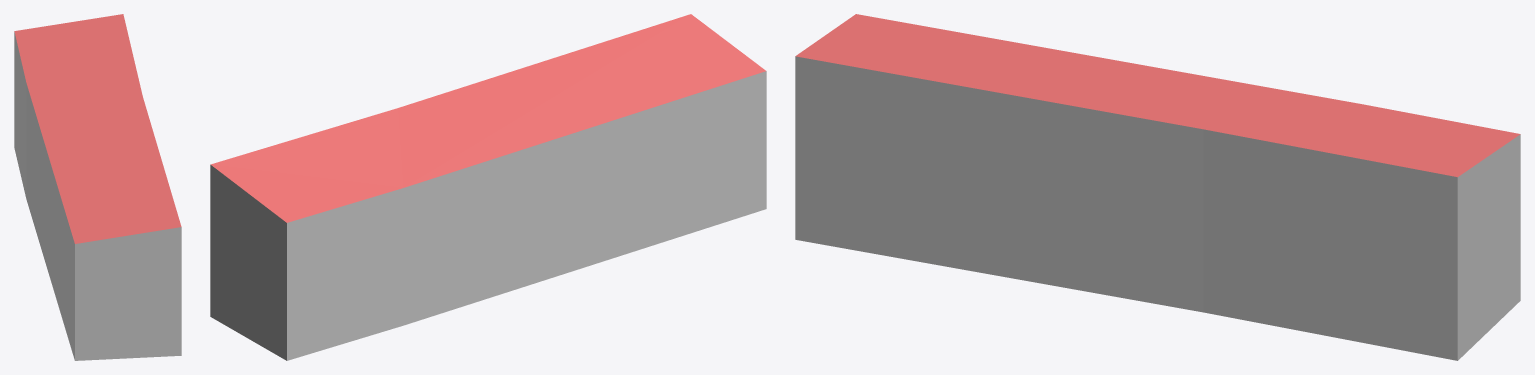
Rendered from DEBY_LOD2_4908172.gltf.
3 views of the same model, side by side, from view 1: azimuth 30°, elevation 25°; view 2: azimuth 150°, elevation 25°; view 3: azimuth 270°, elevation 25° (orthographic). The views are drawn at different scales.
Parts seen in each view (by area): view 1: Z_UP; view 2: Z_UP; view 3: Z_UP.
Part boxes in pixels (<box>): Z_UP: <box>14,14,181,360</box>; Z_UP: <box>210,14,766,360</box>; Z_UP: <box>795,14,1520,360</box>.
Size of the model in its own units: 8.07 by 3.83 by 13.71.
